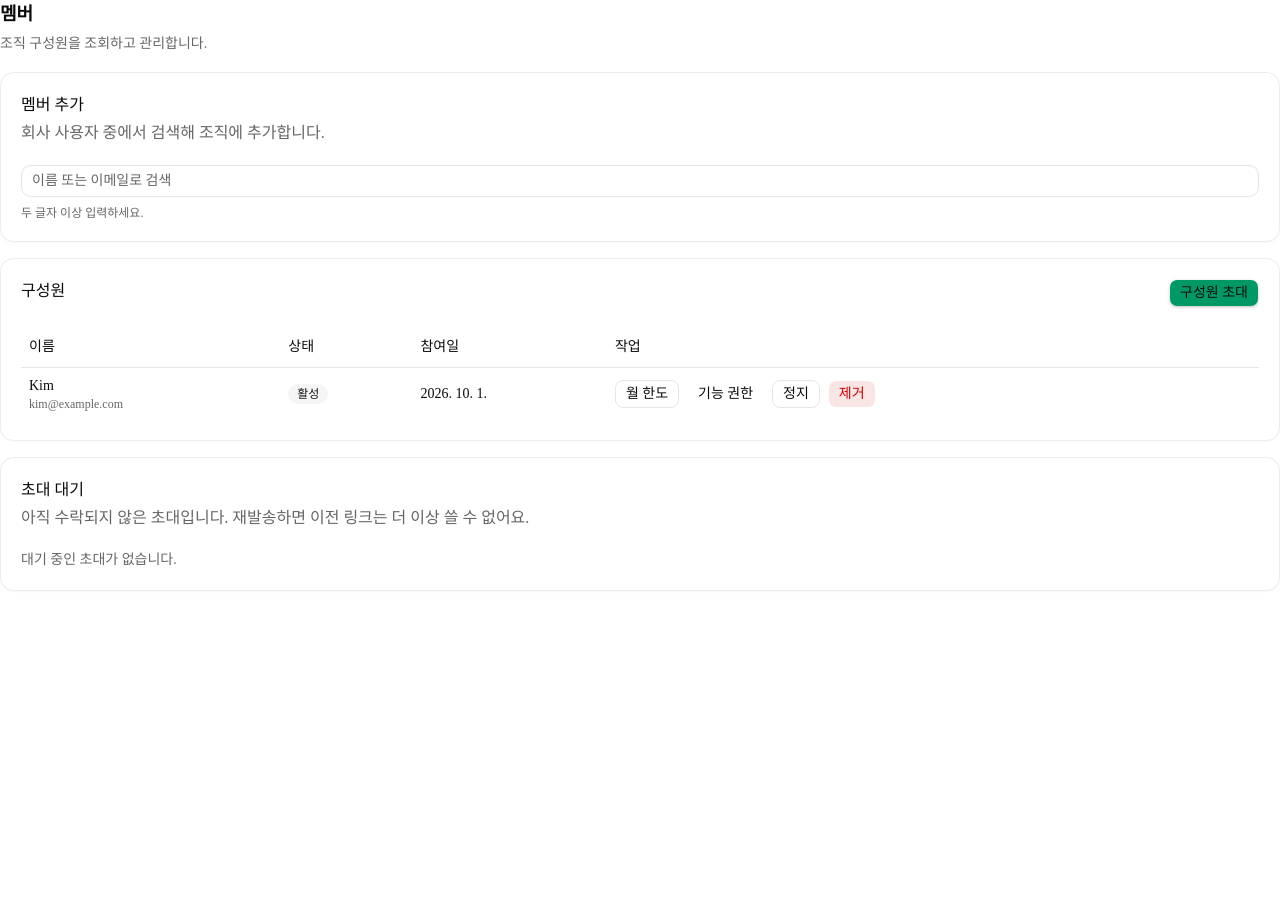
Test: OrgMembersContent invitations and limits (S10/S11) › rejects malformed emails before sending
Click the button "구성원 초대".
click(1214, 293)  # box [1169, 279, 1259, 307]
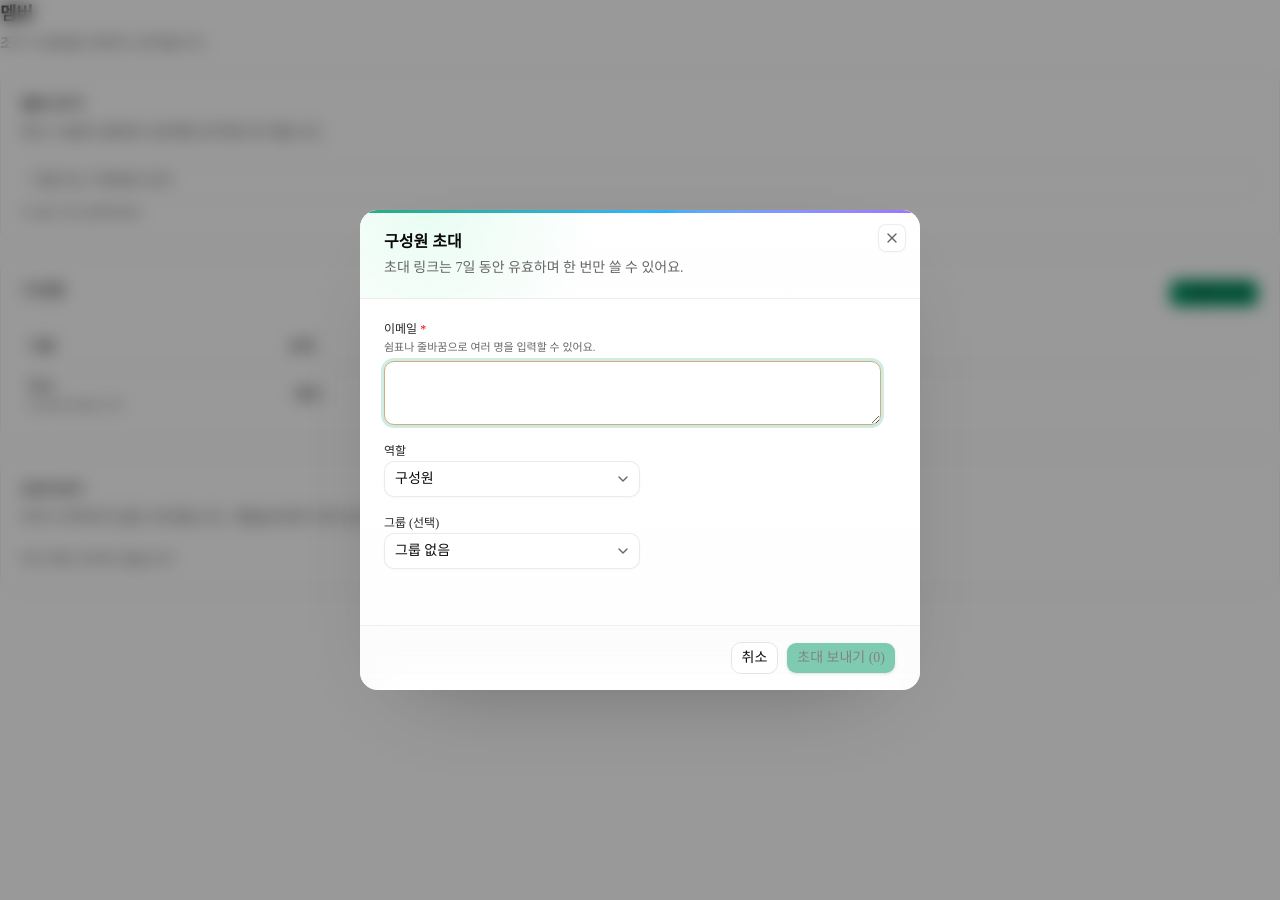
Type "ok@x.io, nope" into the text box labelled "이메일 *".
click(632, 393); type("ok@x.io, nope")  # box [384, 361, 881, 425]
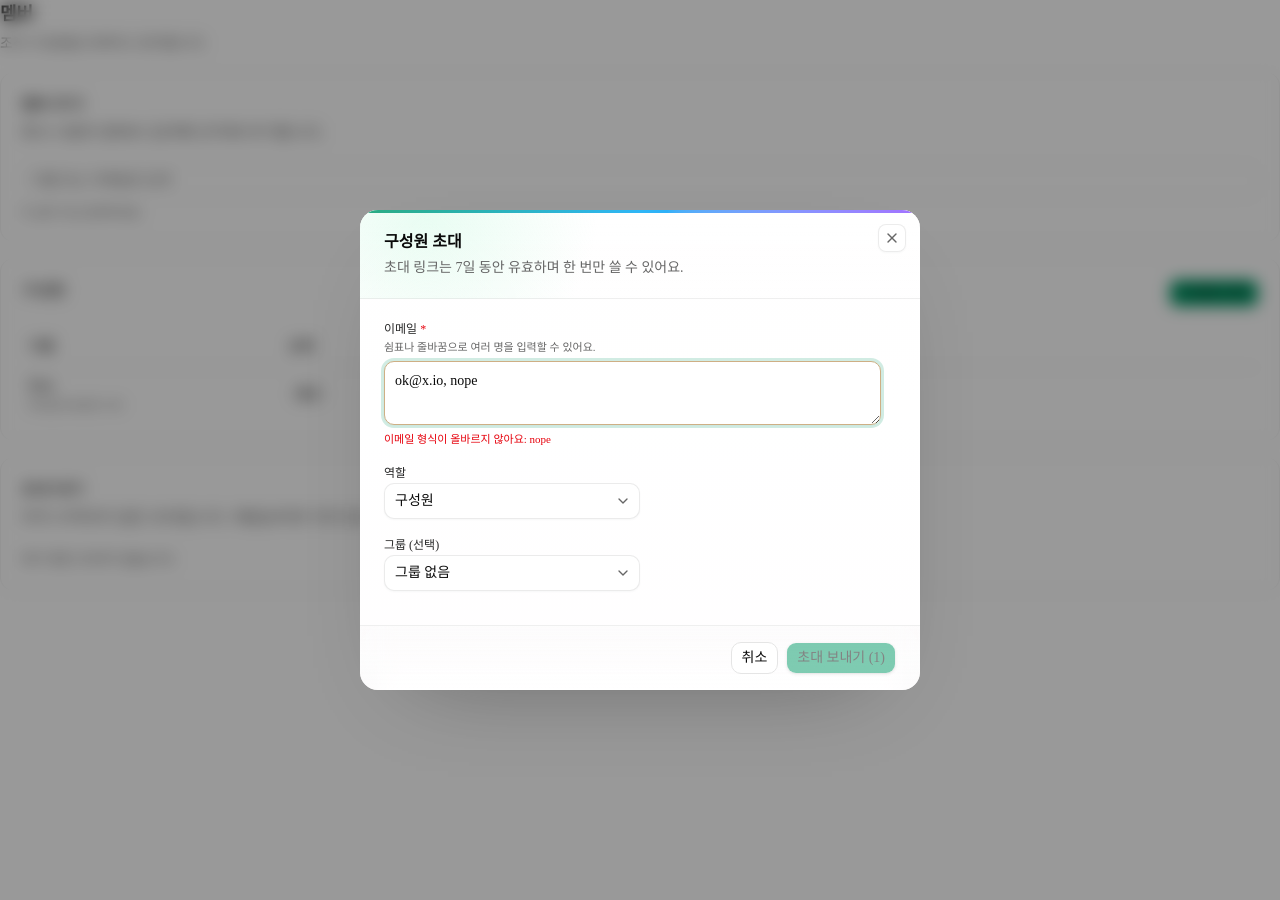
Result: the button "초대 보내기 (1)" is disabled at [786, 642, 896, 674]
Result: the text "이메일 형식이 올바르지 않아요: nope" is shown at [384, 433, 551, 445]
